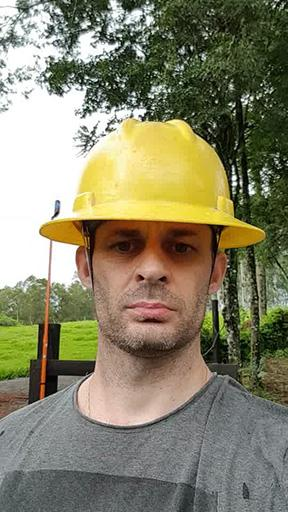Vara_Manobra: (38, 215, 57, 403)
